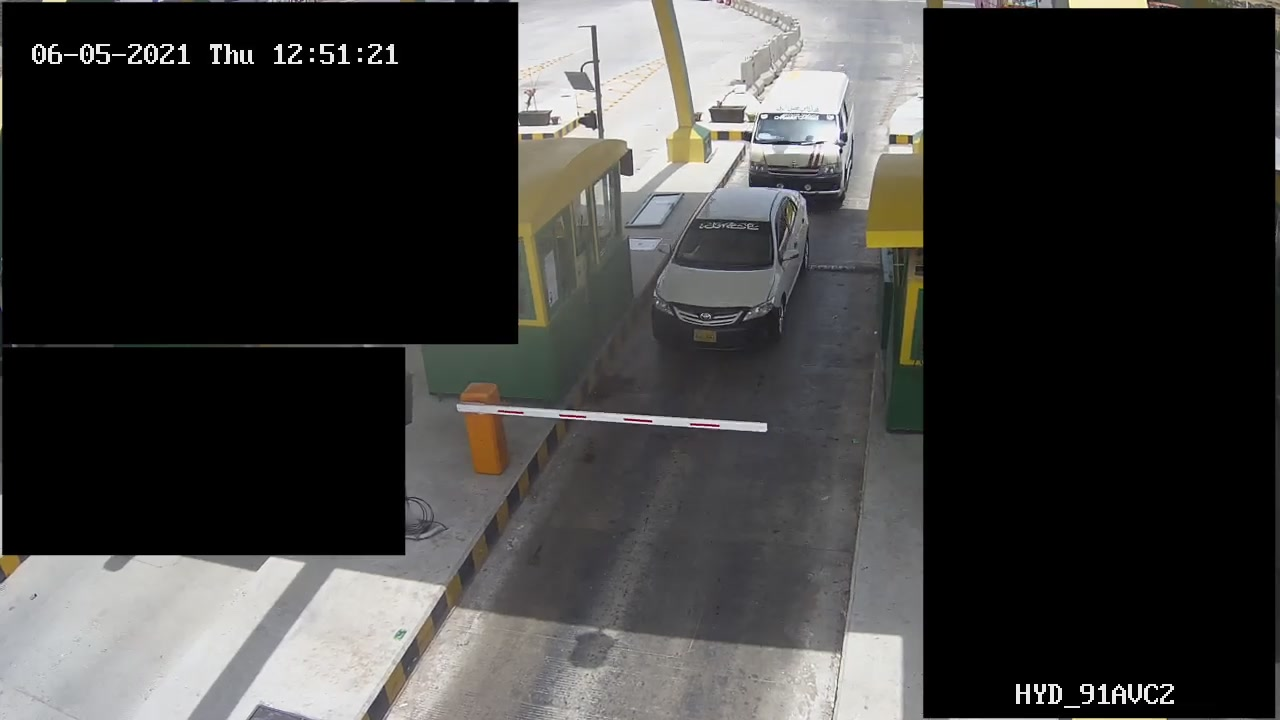F1: (652, 176, 809, 346)
F2: (746, 70, 858, 211)
